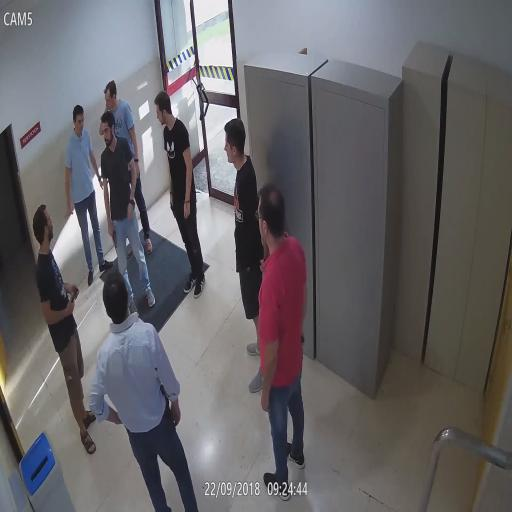Handgun: (66, 288, 80, 318), (162, 385, 172, 418), (106, 223, 118, 250), (168, 191, 177, 219)
